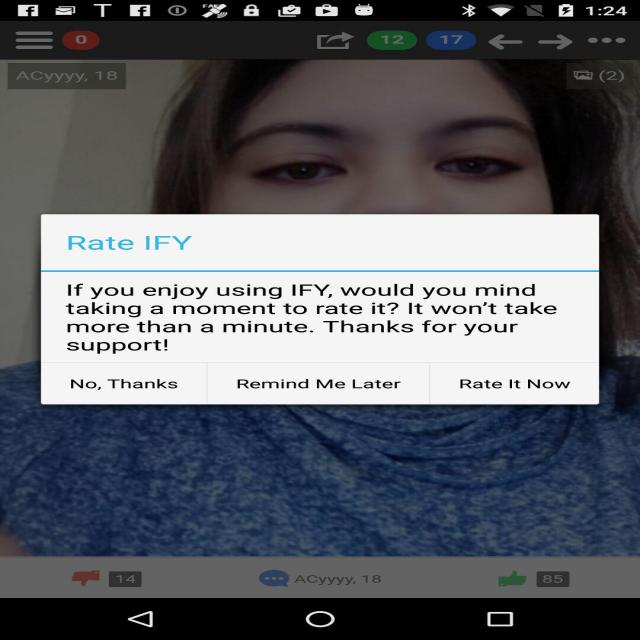button: (232, 367, 421, 401), (59, 381, 194, 392), (444, 384, 577, 395)
text: (52, 287, 568, 355), (48, 231, 226, 255)
